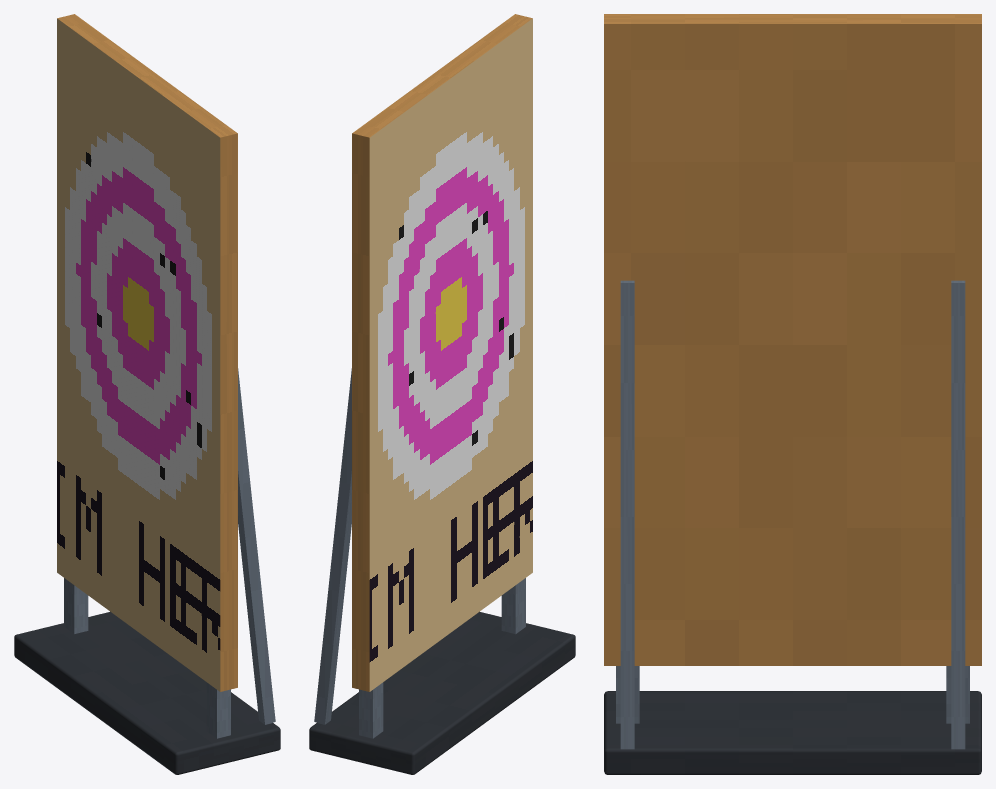
File: p_sm_target.glb
The picture shows the model from 3 angles, left to right: view 1: azimuth 30°, elevation 25°; view 2: azimuth 150°, elevation 25°; view 3: azimuth 270°, elevation 25°; orthographic projection. The views are drawn at different scales.
Parts seen in each view (by area): view 1: p_sm_target_lod0; view 2: p_sm_target_lod0; view 3: p_sm_target_lod0.
Part boxes in pixels (x1,y1,x2,y2): p_sm_target_lod0: (14,14,280,774); p_sm_target_lod0: (309,14,575,774); p_sm_target_lod0: (604,14,981,774).
Size of what is drawn, in the model's own units: 1.21 by 6.8 by 3.2.
Materials: 1 (1 with a texture image).
